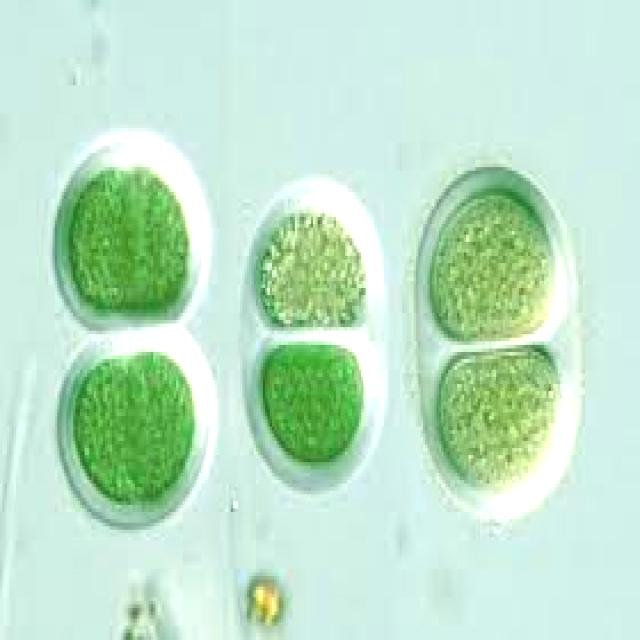Blue Green Algae: (427, 185, 558, 345), (437, 348, 562, 494), (256, 210, 368, 338), (258, 342, 368, 462), (128, 348, 199, 502), (71, 345, 135, 508), (68, 164, 132, 316), (133, 163, 190, 313)
